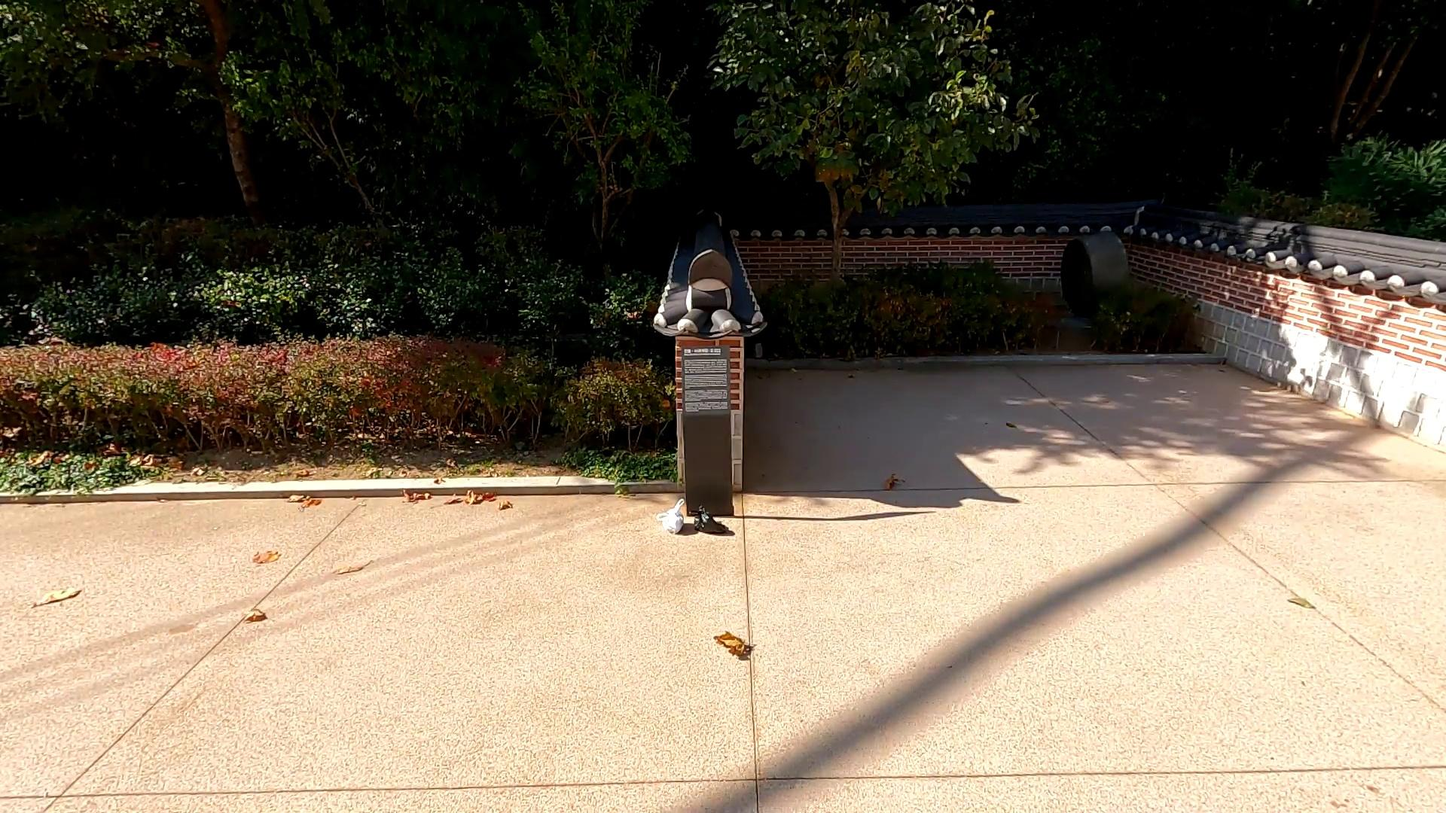trash: (686, 502, 735, 542), (659, 502, 691, 535)
